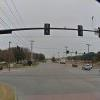Traffic light: (36, 17, 93, 44)
